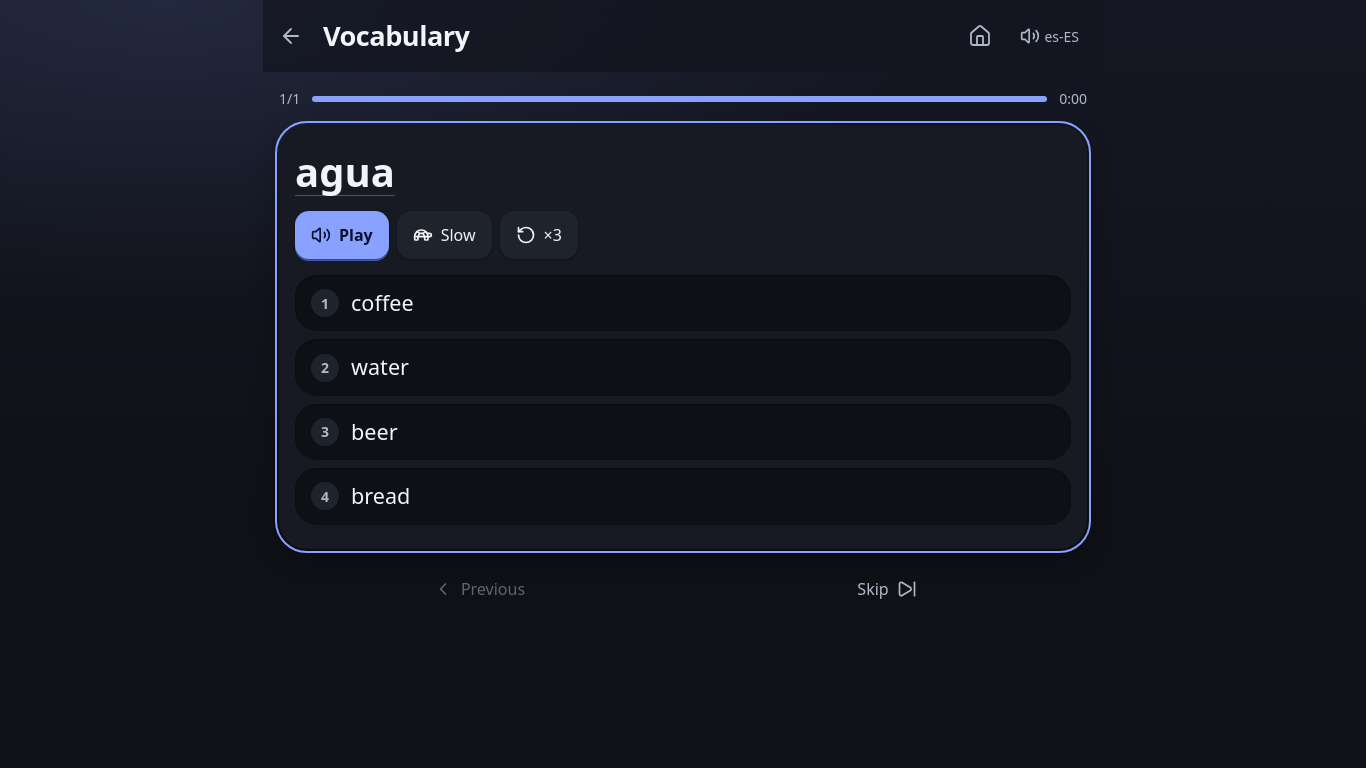
Scenario: answer feedback › states the verdict in a banner of its own
Step 1. Click the button "1 coffee" → (382, 302), box [295,275,1071,331]
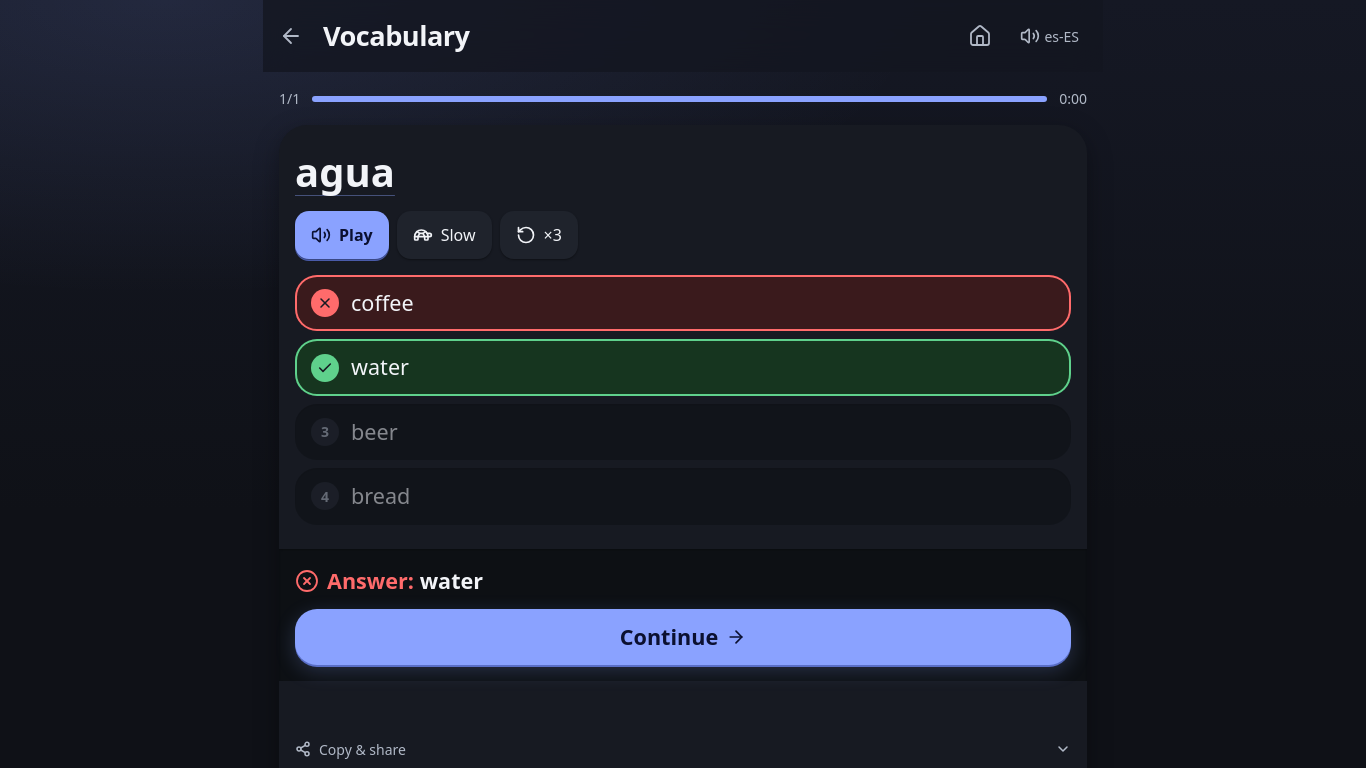
Result: the message reads "Answer: water" at [295,565,483,597]
